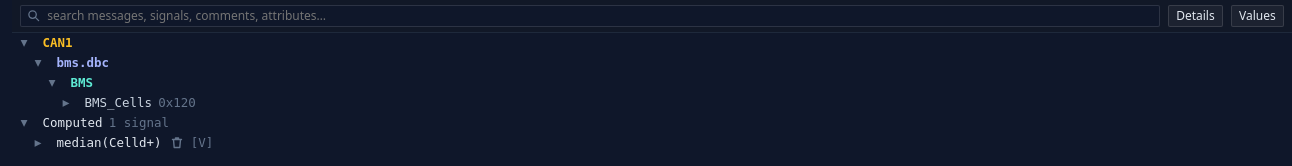
Test case: the live value column › renders the answer in the row's value cell, like any other signal
Click the button labelled "Values" at (1257,16), box x1=1231 y1=5 x2=1284 y2=27
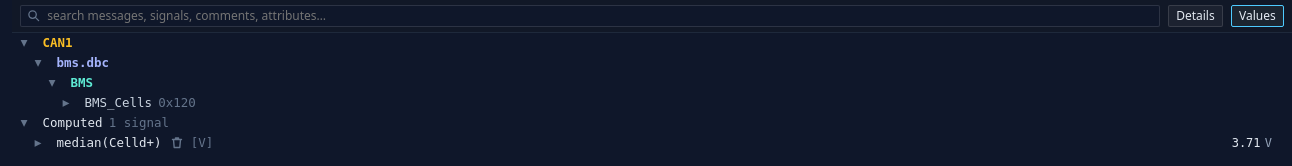
expect the text "3.71" reads "3.71V": met, box x1=1232 y1=136 x2=1272 y2=150
